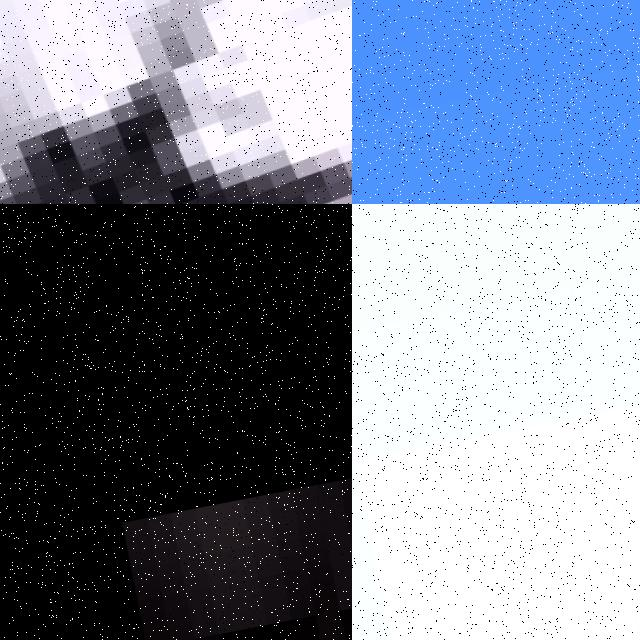drone: (0, 0, 352, 204)
